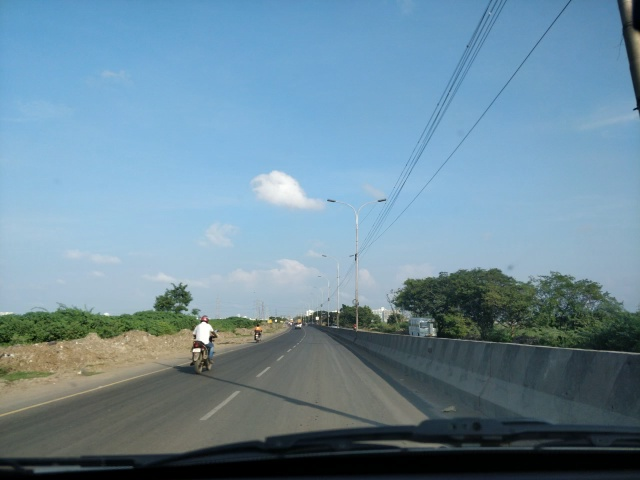bus: (408, 317, 438, 343)
car: (295, 322, 304, 331)
motorbike: (186, 313, 222, 378), (251, 320, 268, 345)
